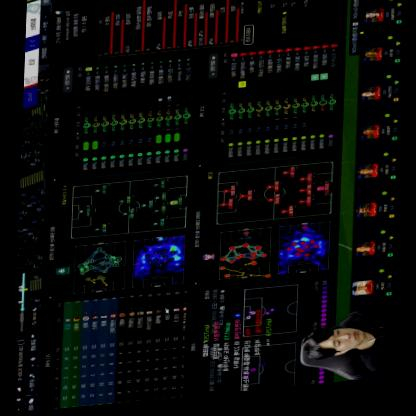streamer: (305, 309, 396, 389)
